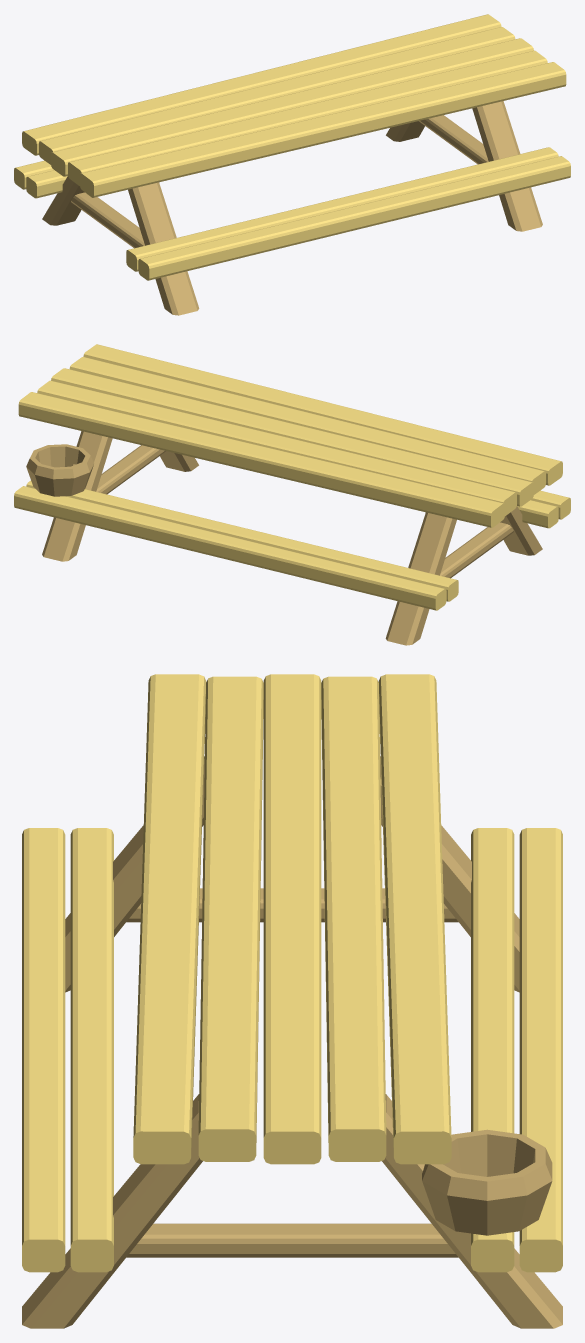
Rendered from GatherStation.glb.
3 views of the same model, one above another, from view 1: azimuth 30°, elevation 25°; view 2: azimuth 150°, elevation 25°; view 3: azimuth 270°, elevation 25° (orthographic). The views are drawn at different scales.
Parts seen in each view (by area): view 1: GatherStation; view 2: GatherStation; view 3: GatherStation.
Part boxes in pixels (left/top/right/bottom): GatherStation: left=14, top=14, right=570, bottom=315; GatherStation: left=14, top=344, right=570, bottom=645; GatherStation: left=22, top=674, right=562, bottom=1328.
Bounding box in the file's own units: 6 × 1.5 × 3.
